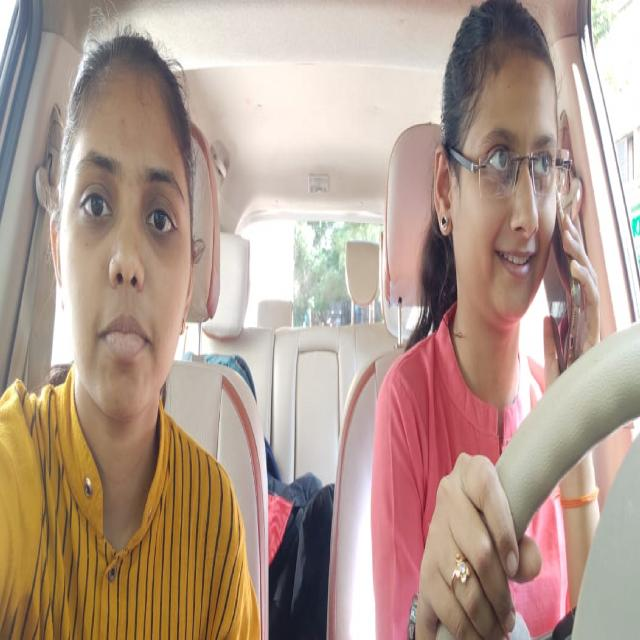mobile: (544, 216, 588, 376)
person: (48, 25, 195, 437), (434, 0, 556, 358)
